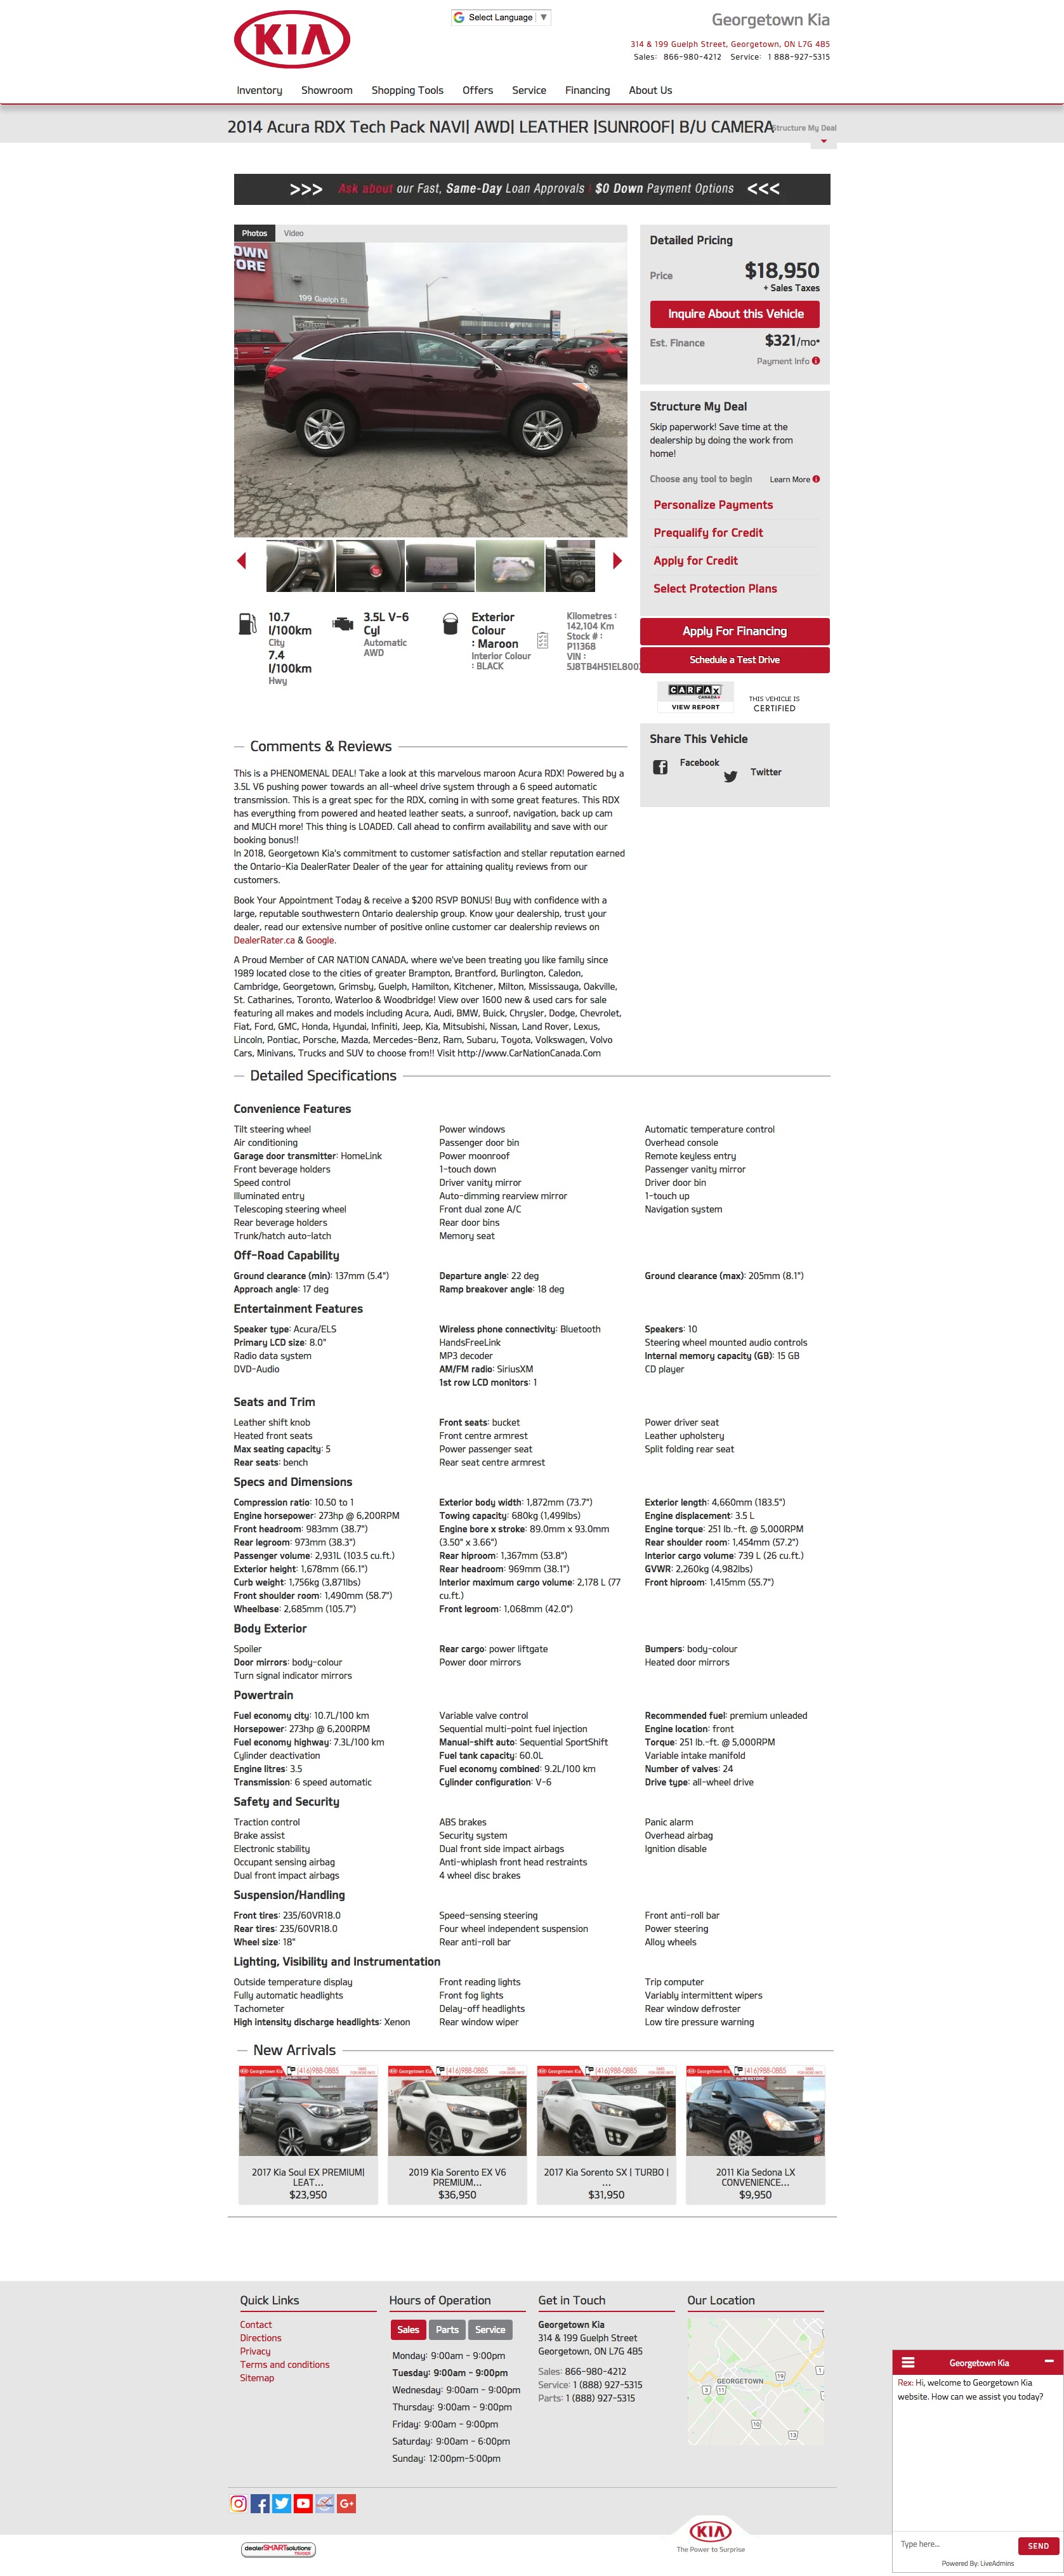car: (612, 552, 622, 570)
